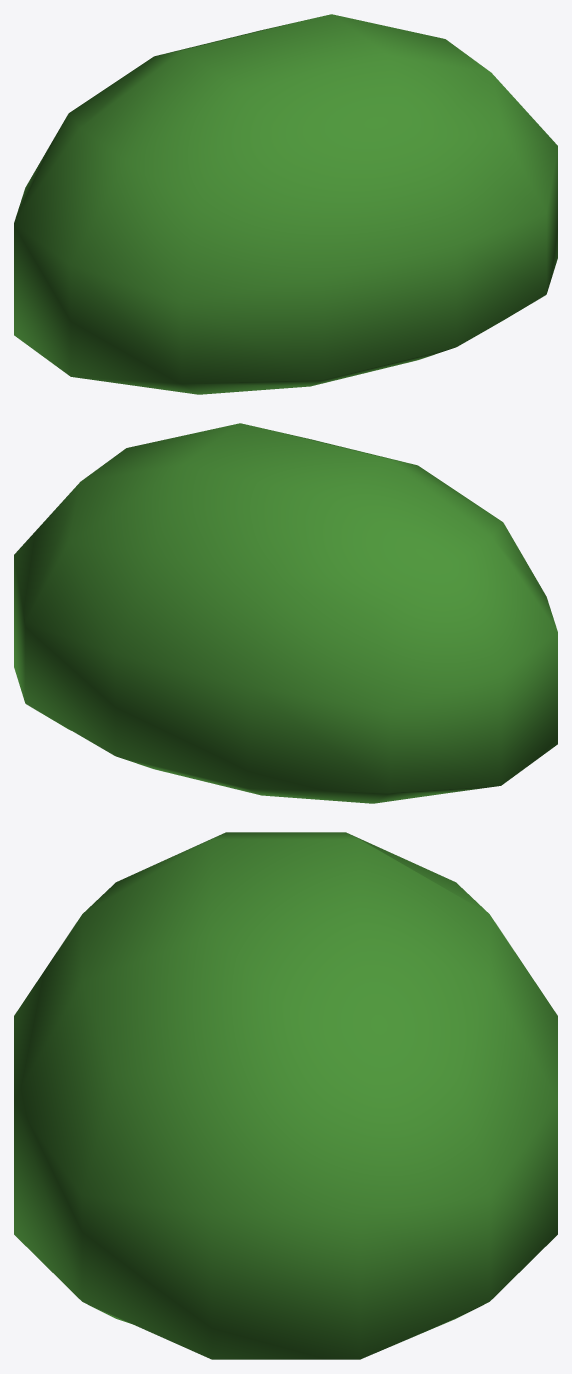
File: bush_block.fbx
3 views of the same model, one above another, from view 1: azimuth 30°, elevation 25°; view 2: azimuth 150°, elevation 25°; view 3: azimuth 270°, elevation 25° (orthographic). The views are drawn at different scales.
Parts seen in each view (by area): view 1: bush; view 2: bush; view 3: bush.
Part boxes in pixels (<box>): bush: <box>14,14,557,394</box>; bush: <box>14,423,557,803</box>; bush: <box>14,832,557,1359</box>.
Bounding box in the file's own units: 142 × 75.26 × 105.
